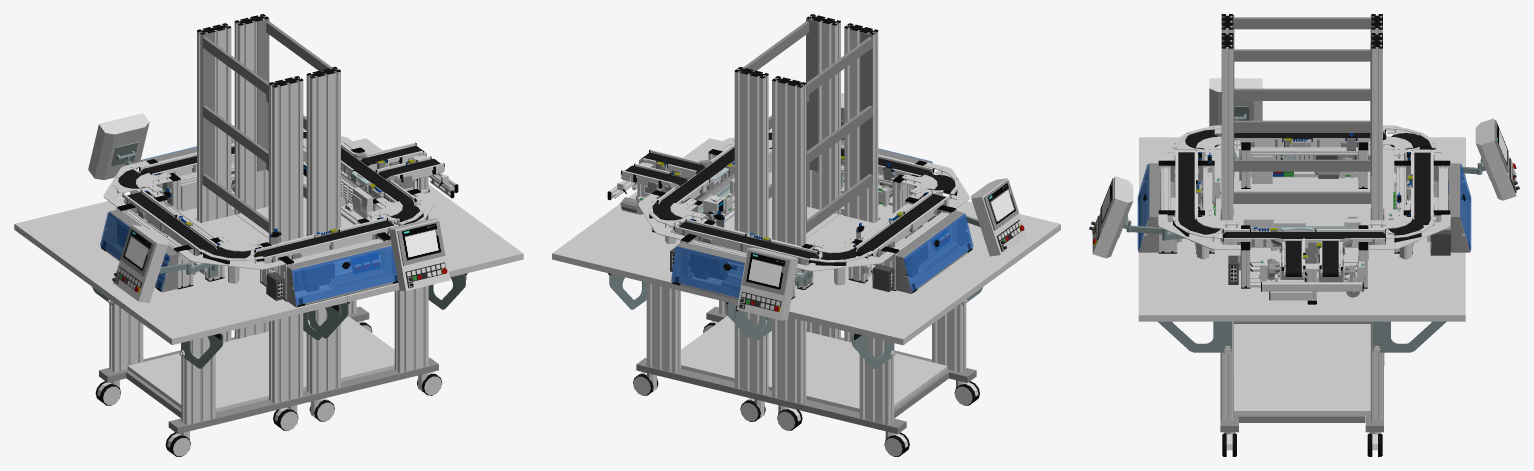
File: Four-CP Lab, Bridge on 2 Systemtrainer.fbx
3 renders of one model, left to right at view 1: azimuth 30°, elevation 25°; view 2: azimuth 150°, elevation 25°; view 3: azimuth 270°, elevation 25°, orthographic. The views are drawn at different scales.
Parts seen in each view (by area): view 1: FbxMesh (×44); view 2: FbxMesh (×48); view 3: FbxMesh (×49).
Part boxes in pixels (x1,y1,x2,y2): FbxMesh (×44): (14,15,523,456); FbxMesh (×48): (552,15,1060,434); FbxMesh (×49): (1092,17,1516,432).
Bounding box in the file's own units: 1.81 × 1.7 × 1.84.
Materials: 19 (1 with a texture image).
